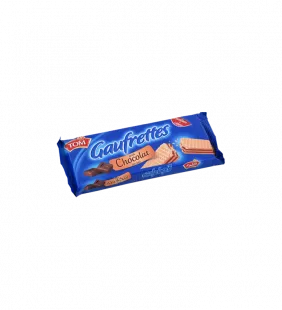TOM: (51, 101, 231, 205)
